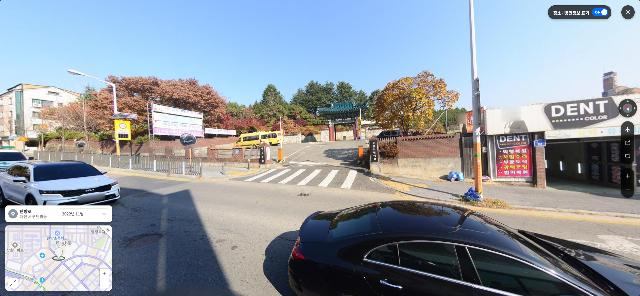other: (97, 75, 226, 140), (376, 70, 460, 136), (38, 96, 101, 138), (259, 84, 284, 125), (223, 115, 270, 135)
